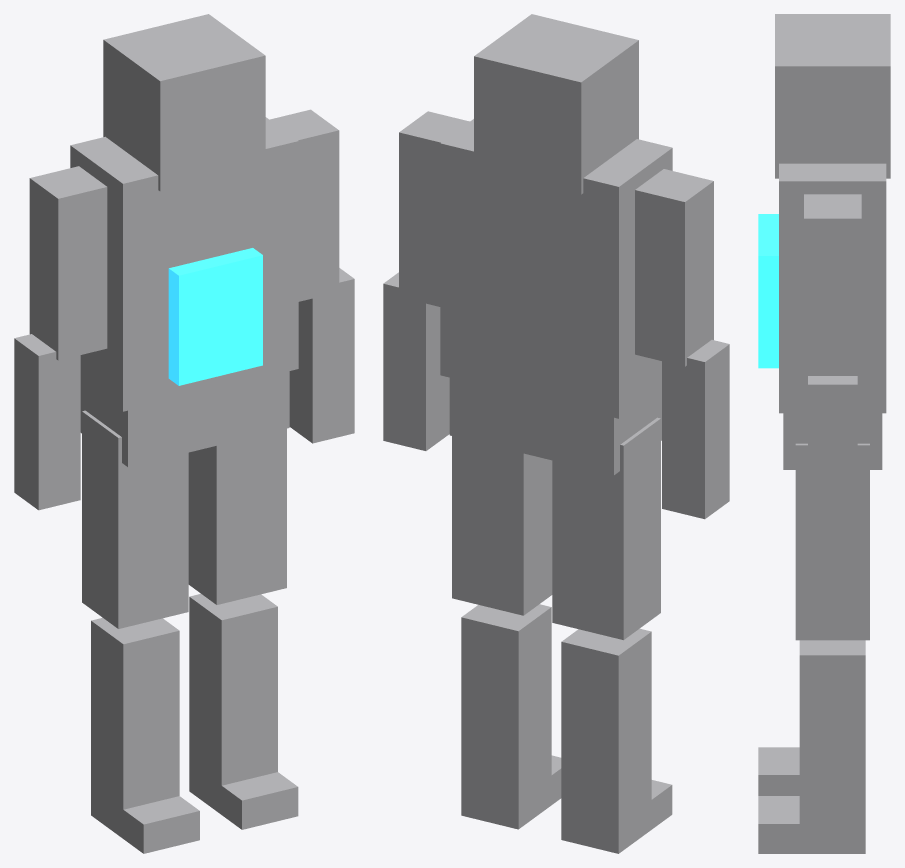
The model's file is abs.glb.
The picture shows the model from 3 angles, left to right: view 1: azimuth 30°, elevation 25°; view 2: azimuth 150°, elevation 25°; view 3: azimuth 270°, elevation 25°; orthographic projection.
Visible parts, largest first — view 1: Mannequin; view 2: Mannequin; view 3: Mannequin.
Part boxes in pixels (x1=…): Mannequin: x1=14, y1=14, x2=354, y2=853; Mannequin: x1=383, y1=14, x2=729, y2=853; Mannequin: x1=758, y1=14, x2=890, y2=853.
Size of the model in its own units: 0.9 by 2.07 by 0.32.
